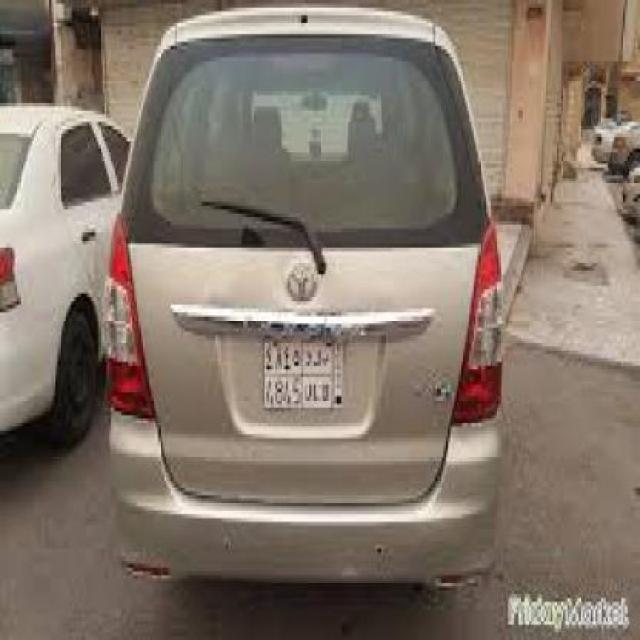license_plate: (262, 334, 344, 412)
